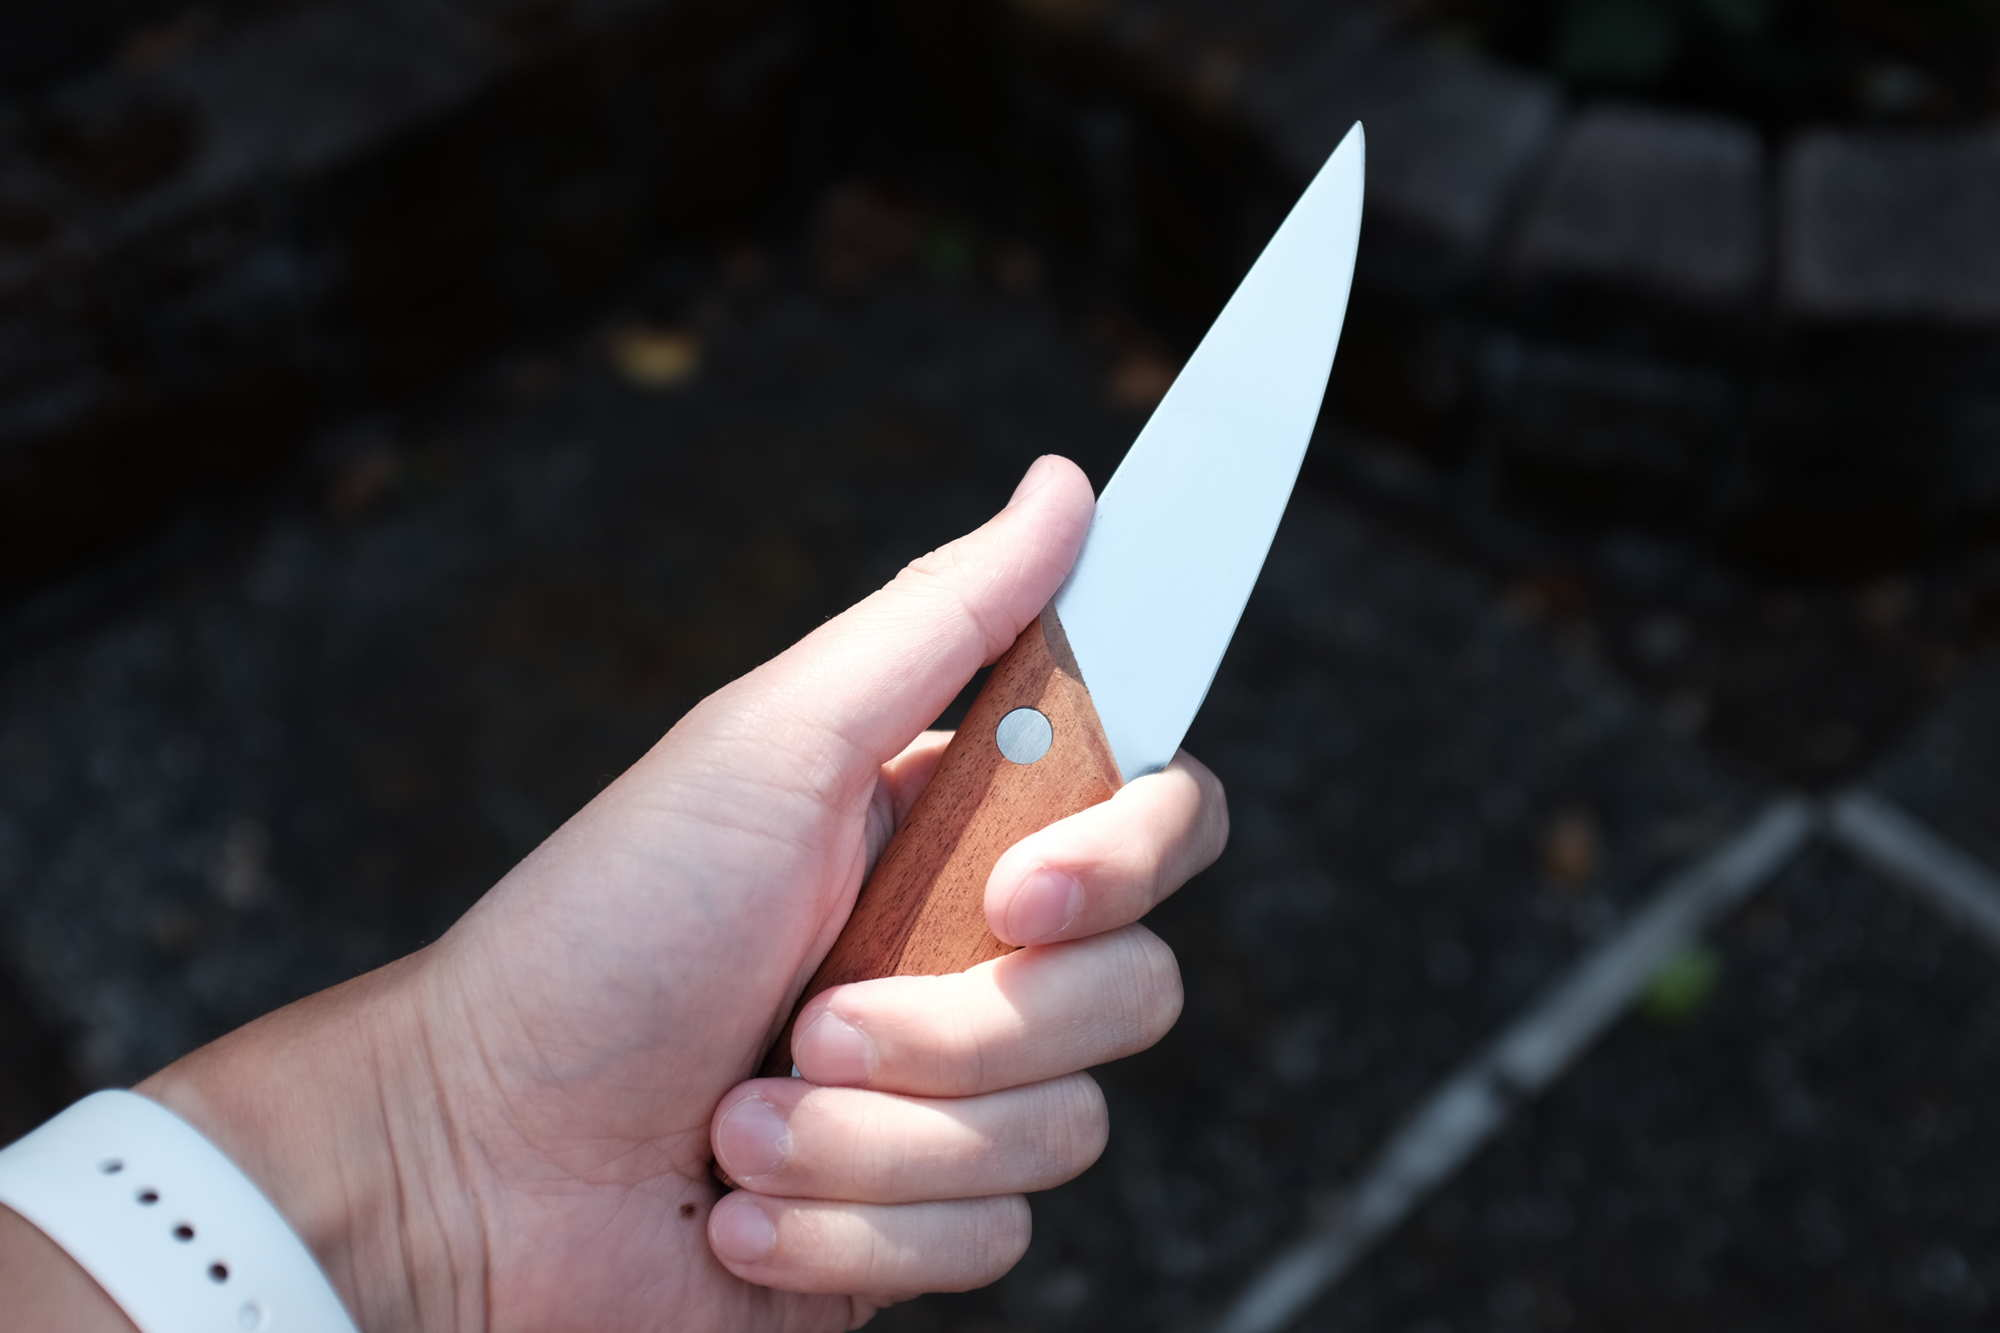knife: (767, 89, 1402, 1101)
